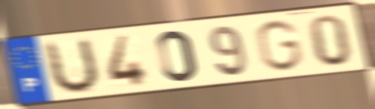0: (306, 13, 355, 67), (155, 29, 198, 84)
4: (106, 34, 150, 89)
9: (207, 25, 249, 78)
G: (253, 18, 305, 74)
U: (44, 36, 102, 97)
